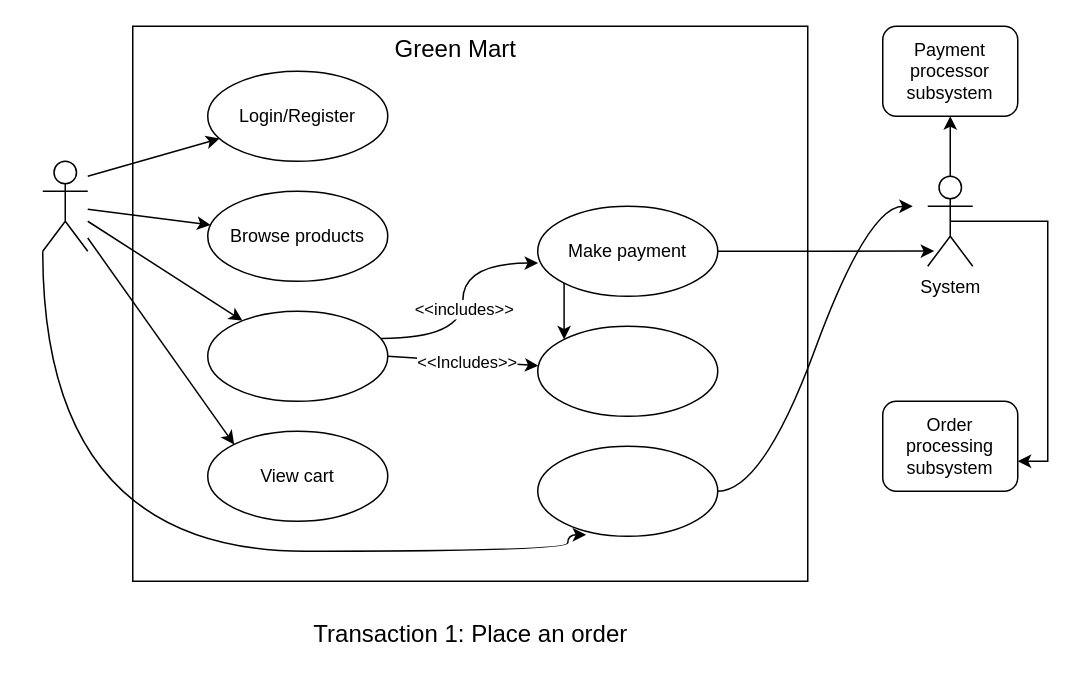
The diagram is 1086 pixels wide and 683 high, and some of its shapes have lost their labels. The centre of each missing label's shape, as x and y in pixels:
Add to cart: the point at 297,355
Choose payment method: the point at 627,370
Customer: the point at 64,205
Help: the point at 627,490
